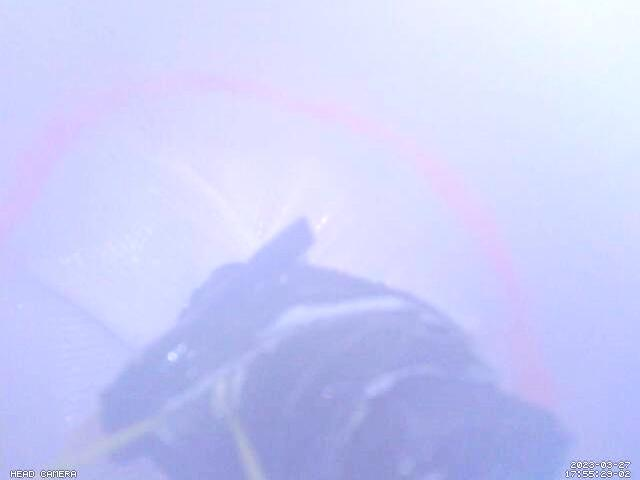head: (1, 71, 560, 415)
